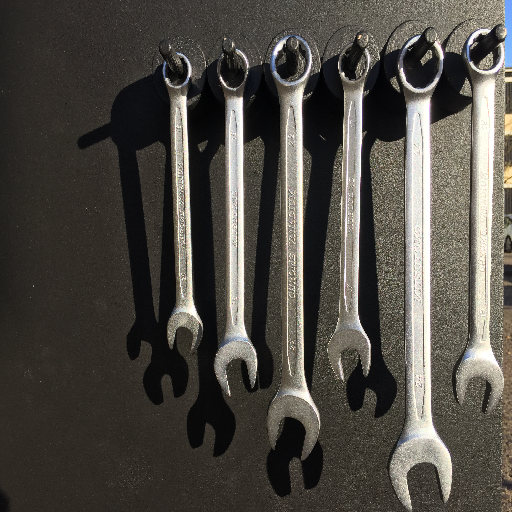bottom: (385, 430, 455, 512), (264, 389, 324, 465), (451, 347, 507, 418), (323, 319, 373, 387), (210, 336, 262, 401), (164, 306, 205, 356)
top: (394, 31, 447, 97), (266, 33, 317, 93), (460, 25, 509, 83), (213, 47, 253, 97), (336, 41, 373, 90), (159, 50, 195, 95)
